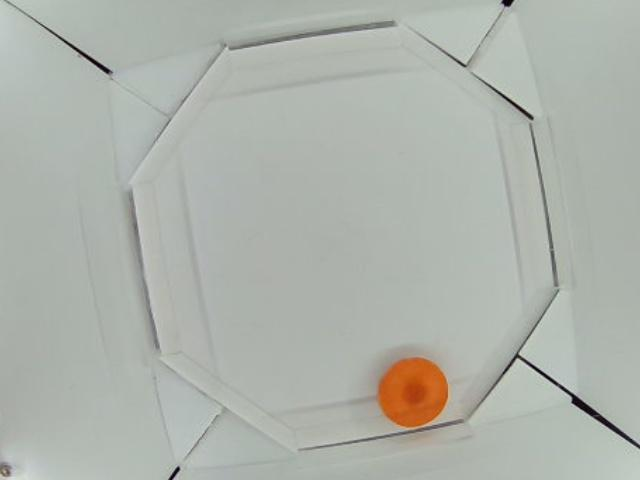Carrot: (377, 355, 450, 430)
